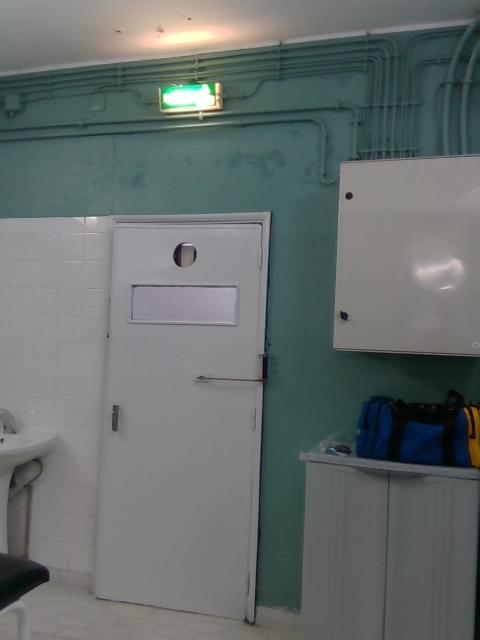door: (95, 220, 260, 620)
